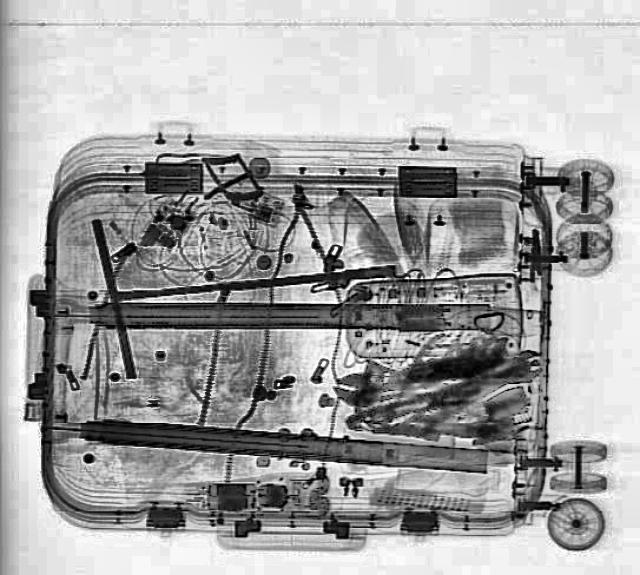Wrench: (394, 342, 550, 440)
